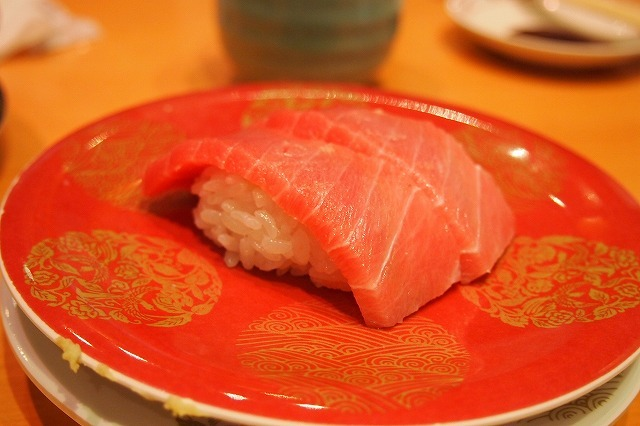medium_fatty_tuna: (142, 136, 464, 326)
